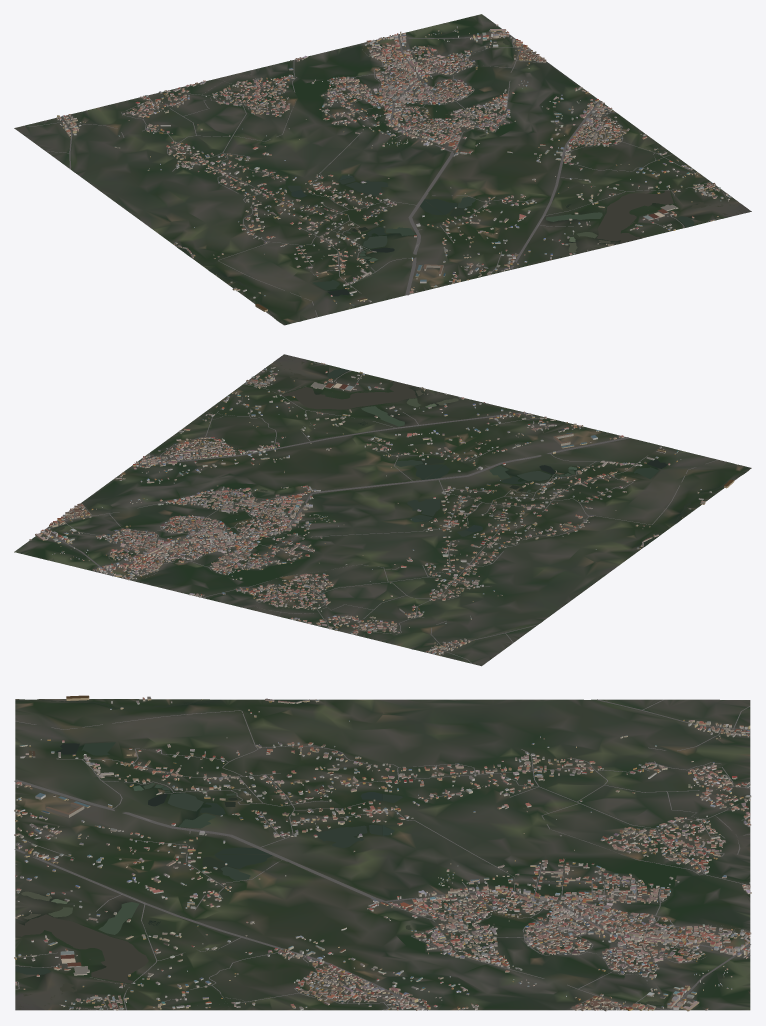
The picture shows the model from 3 angles, top to bottom: view 1: azimuth 30°, elevation 25°; view 2: azimuth 150°, elevation 25°; view 3: azimuth 270°, elevation 25°; orthographic projection. The views are drawn at different scales.
Parts seen in each view (by area): view 1: ground, buildings, water, roads; view 2: ground, buildings, roads, water; view 3: ground, buildings, water, roads.
Part boxes in pixels (x1,y1,x2,y2): ground: [14, 14, 751, 325]; buildings: [56, 24, 731, 311]; water: [177, 39, 748, 324]; roads: [23, 34, 727, 316]; ground: [14, 354, 751, 666]; buildings: [29, 362, 734, 655]; roads: [44, 361, 718, 663]; water: [52, 355, 749, 546]; ground: [15, 699, 750, 1010]; buildings: [14, 695, 751, 1011]; water: [15, 699, 664, 1009]; roads: [14, 699, 750, 1010].
Bounding box in the file's own units: 2827 × 24.33 × 2816.
